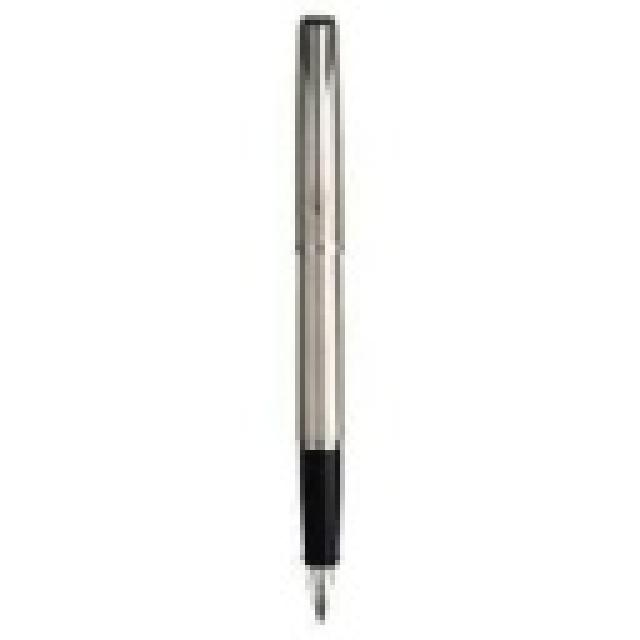pen: (284, 14, 354, 635)
